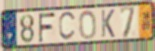7: (119, 5, 137, 40)
8: (19, 12, 36, 45)
C: (58, 11, 77, 42)
F: (38, 12, 57, 44)
K: (100, 9, 116, 39)
O: (78, 9, 97, 41)
